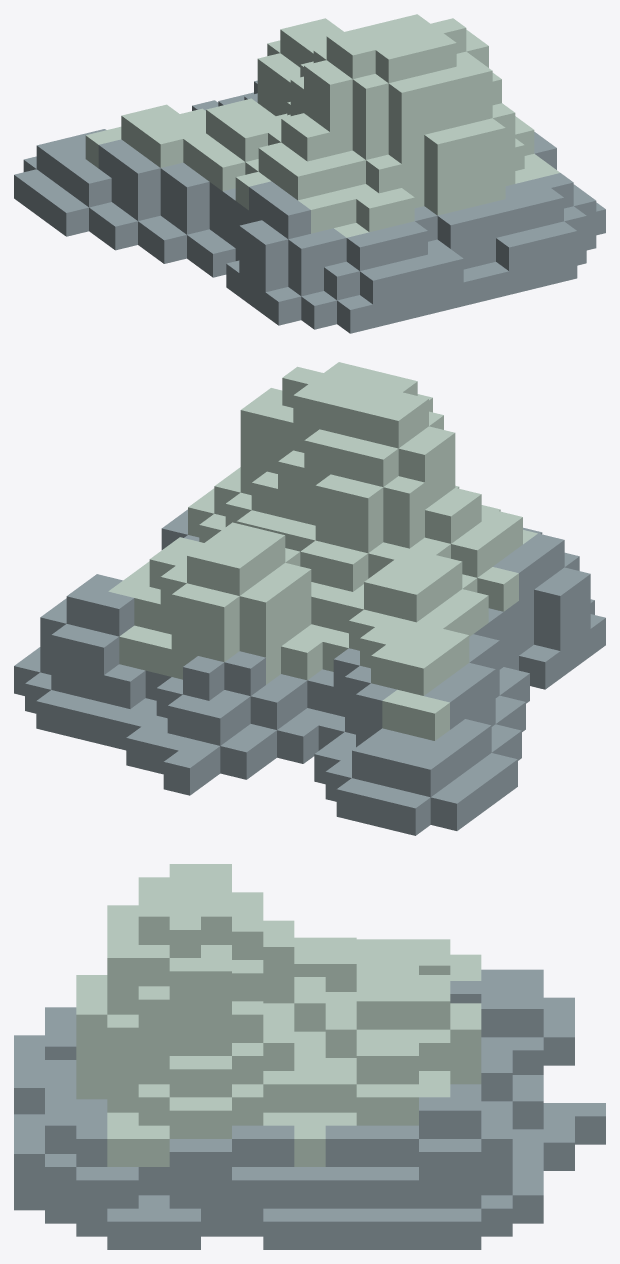
File: Smol-Stone-1.obj
The picture shows the model from 3 angles, top to bottom: view 1: azimuth 30°, elevation 25°; view 2: azimuth 150°, elevation 25°; view 3: azimuth 270°, elevation 25°; orthographic projection. The views are drawn at different scales.
Size of the model in its own units: 1.8 by 0.9 by 1.9.
1 material, 1 textured.
